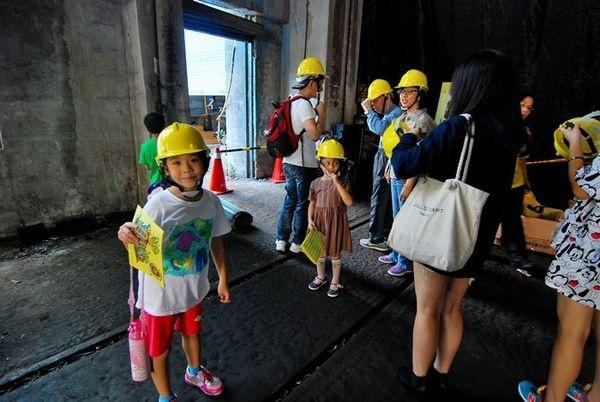Helmet: (160, 123, 213, 187)
